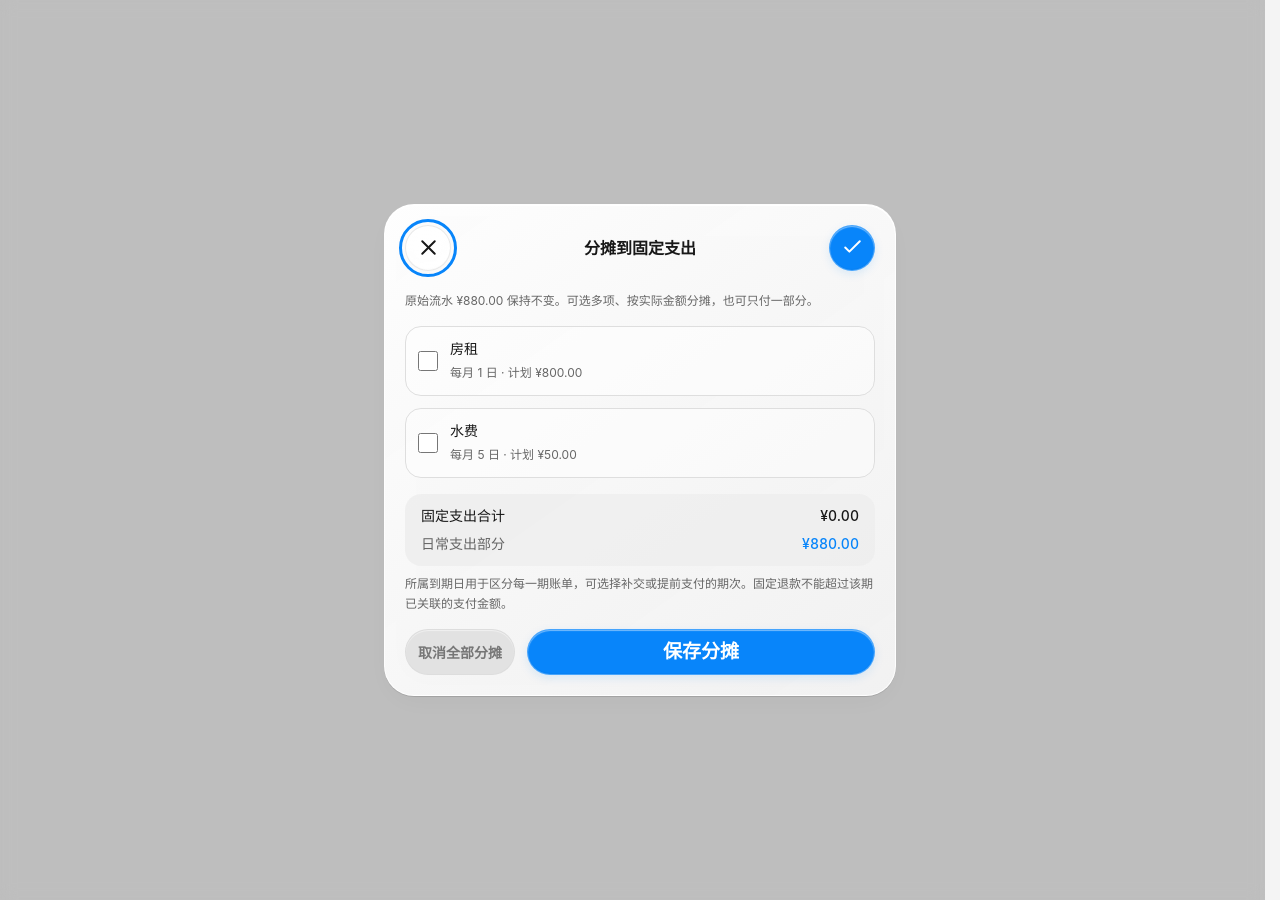
Scenario: 重复账单期次和小于一分的金额不提交
Step 1. Click the checkbox named "选择房租" → click(428, 361), box [418, 351, 438, 371]
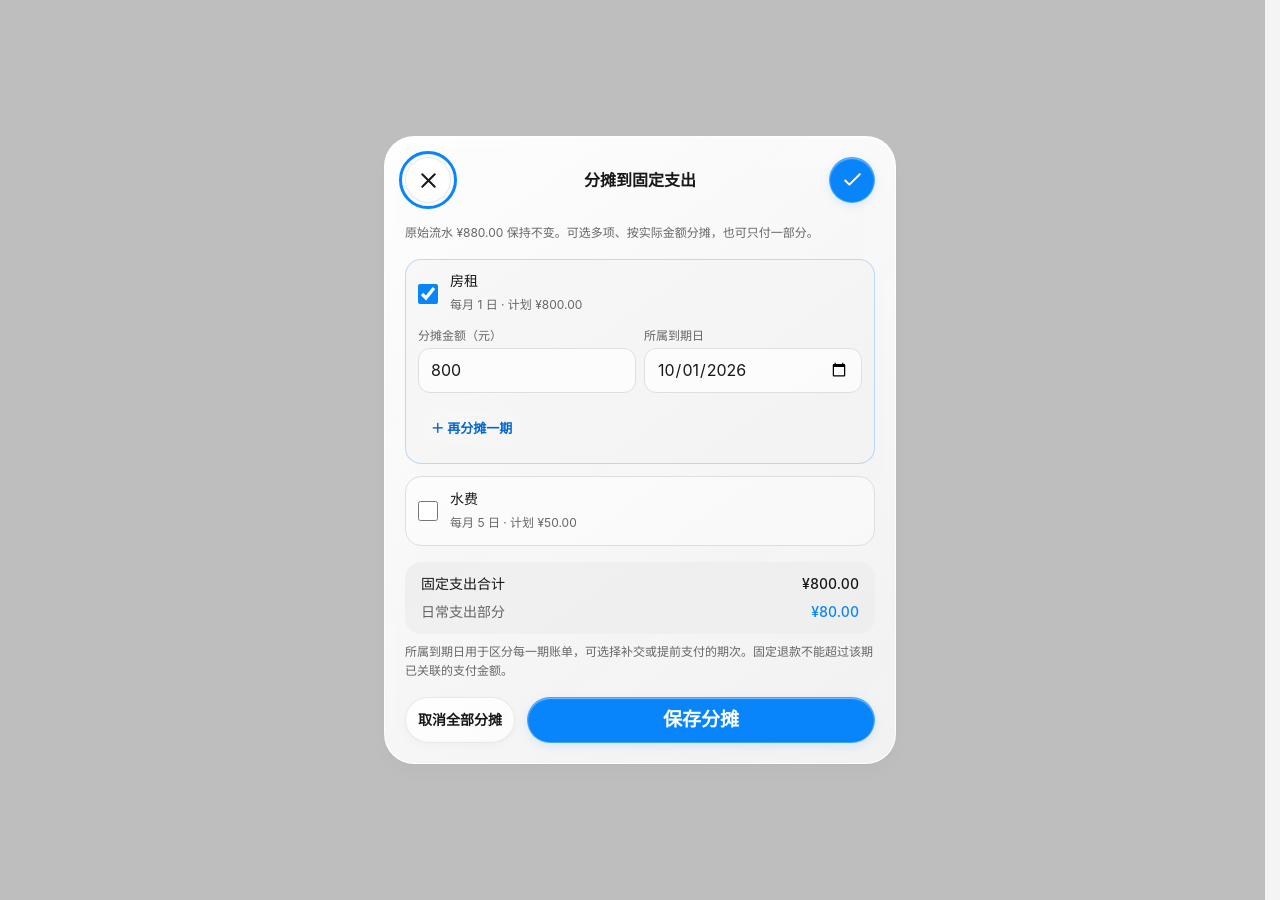
Step 2. Click the button "＋ 再分摊一期" → click(472, 428), box [418, 405, 525, 451]
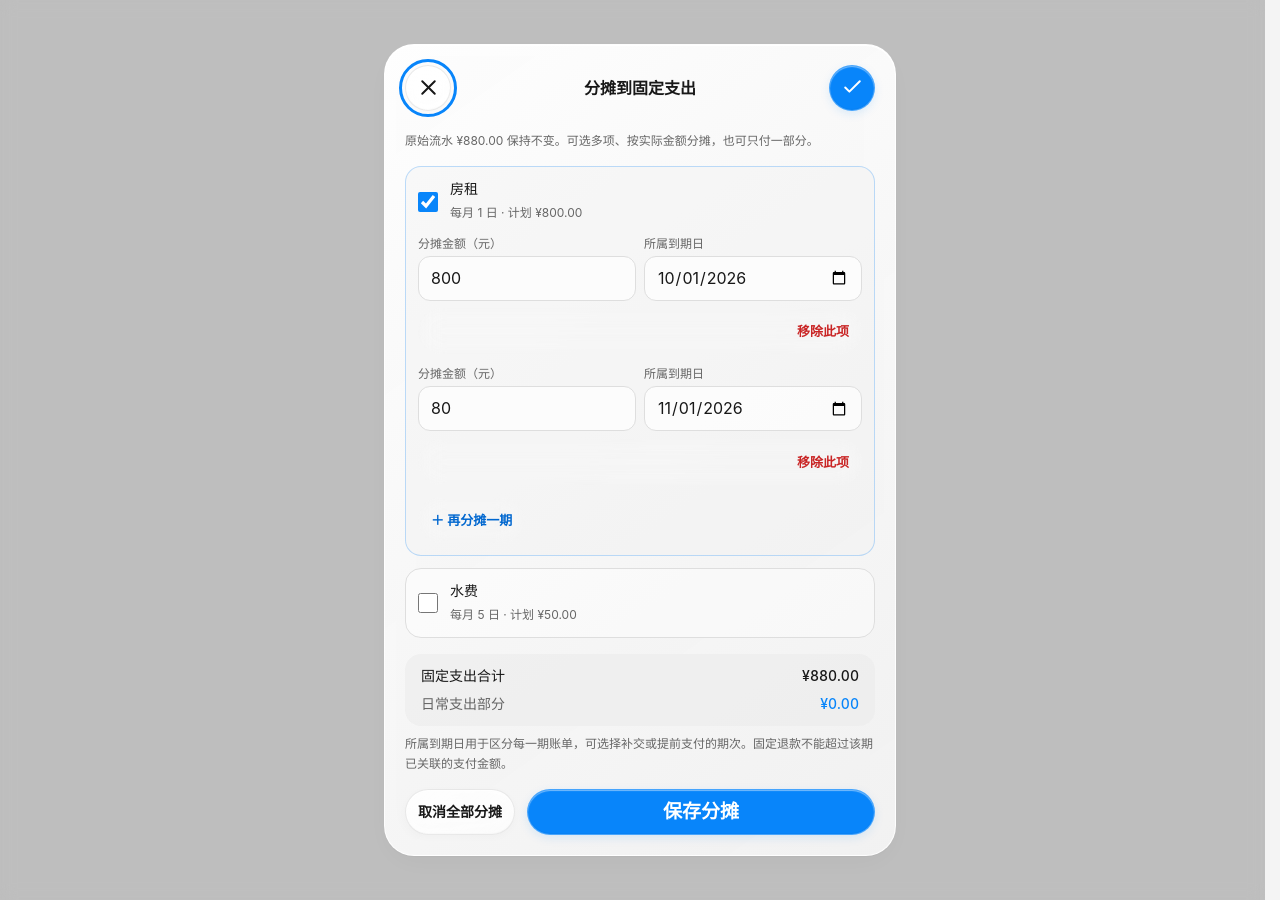
Step 3. Type "2026-10-01" into the date field named "房租第2项所属到期日" → (753, 409), box [644, 386, 862, 431]
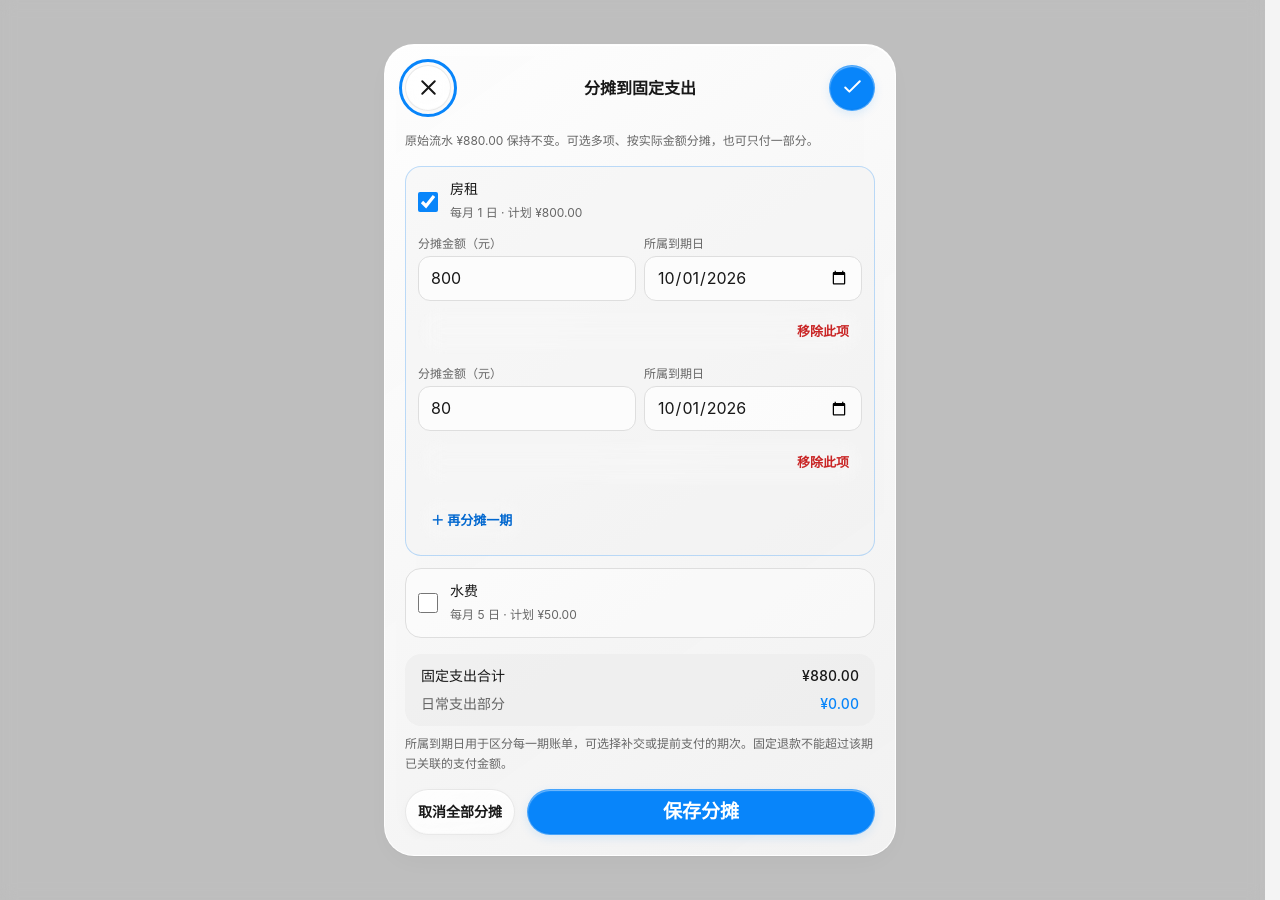
Step 4. Click the button "保存分摊" → click(701, 812), box [527, 789, 875, 835]
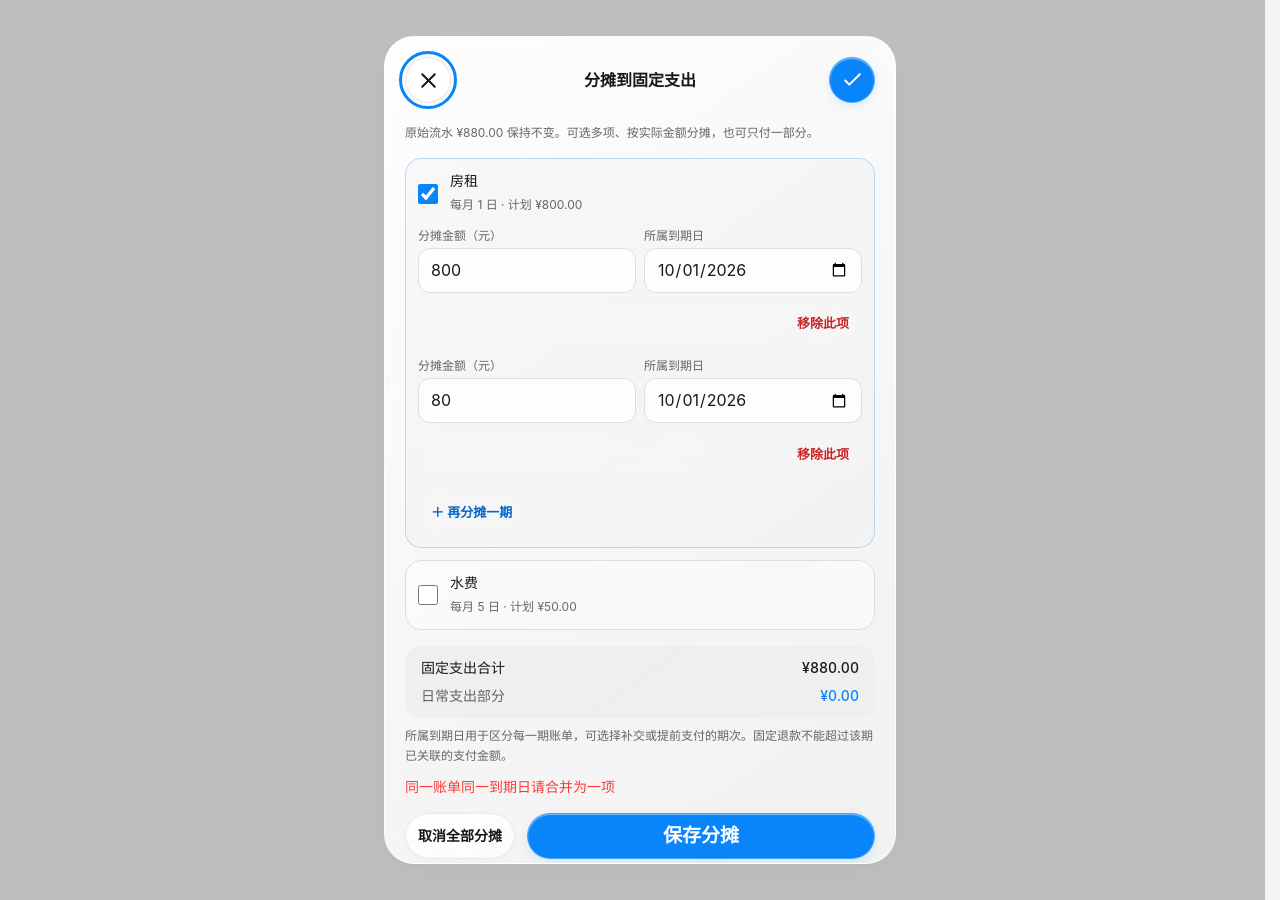
Check: the message reads "同一账单同一到期日请合并为一项", box [405, 778, 615, 795]
Step 5. Replace the text in the number field named "房租第2项分摊金额" with "0.001" → (527, 401), box [418, 378, 636, 423]
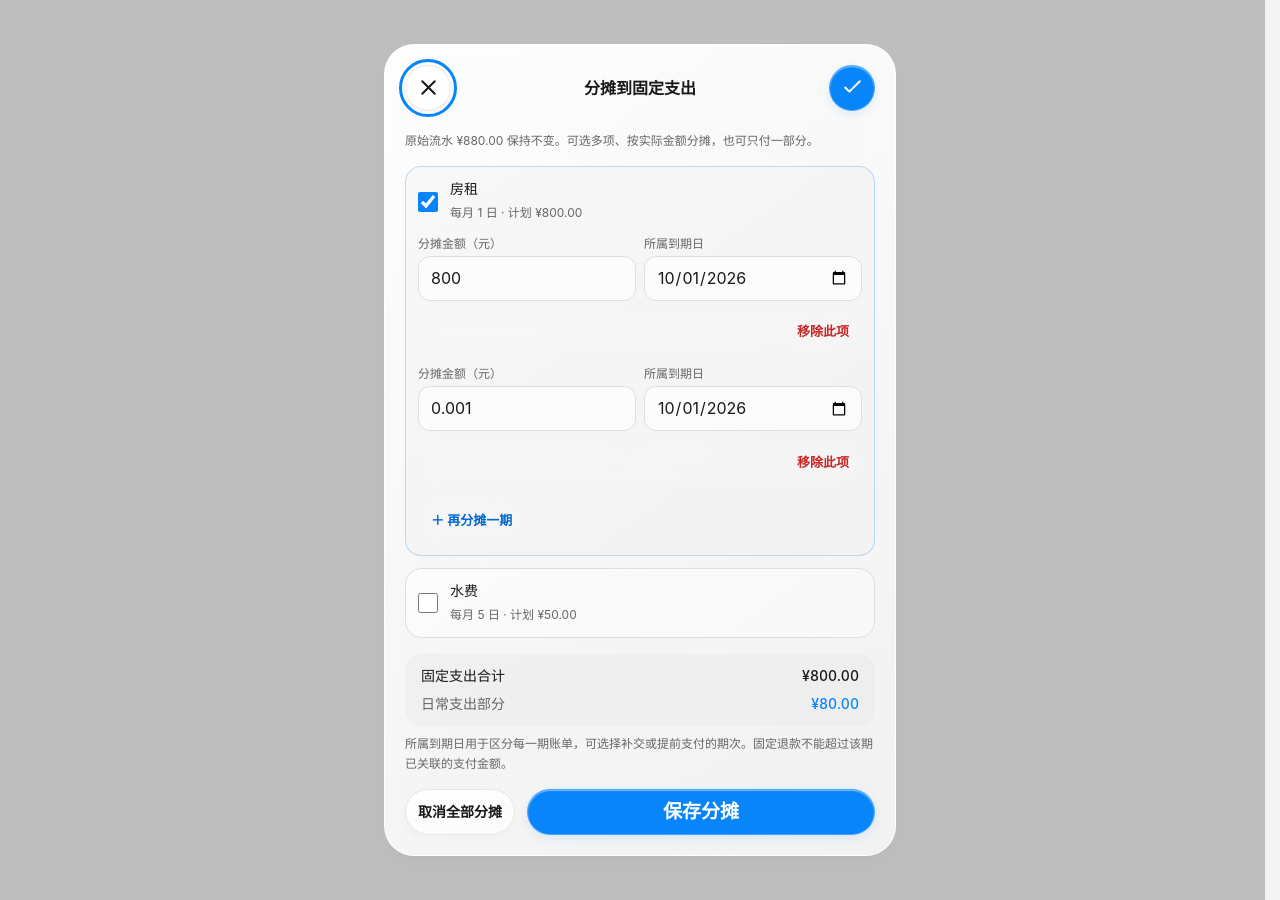
Step 6. Click the button "保存分摊" → click(701, 812), box [527, 789, 875, 835]
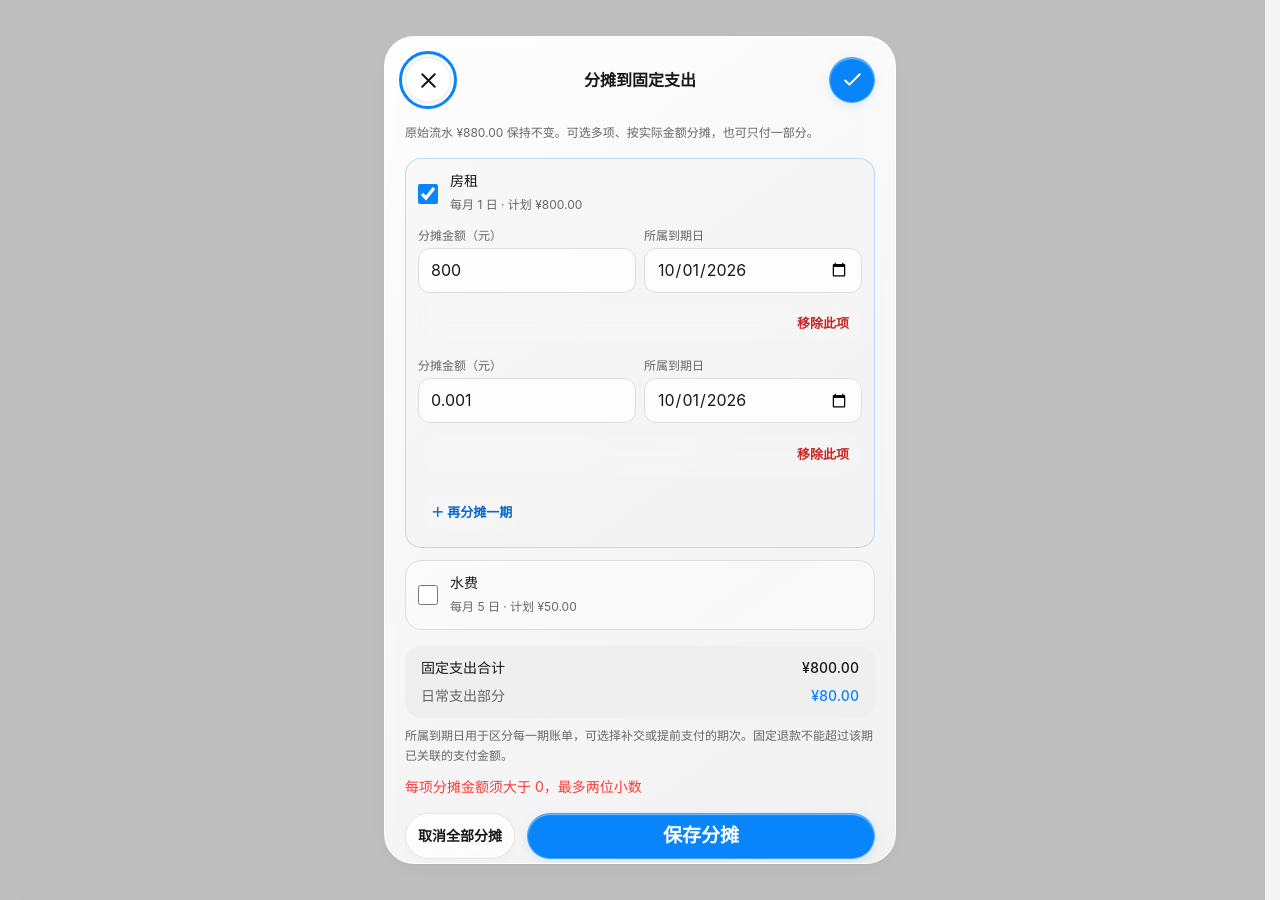
Check: the message shows "最多两位小数", box [405, 778, 642, 795]
